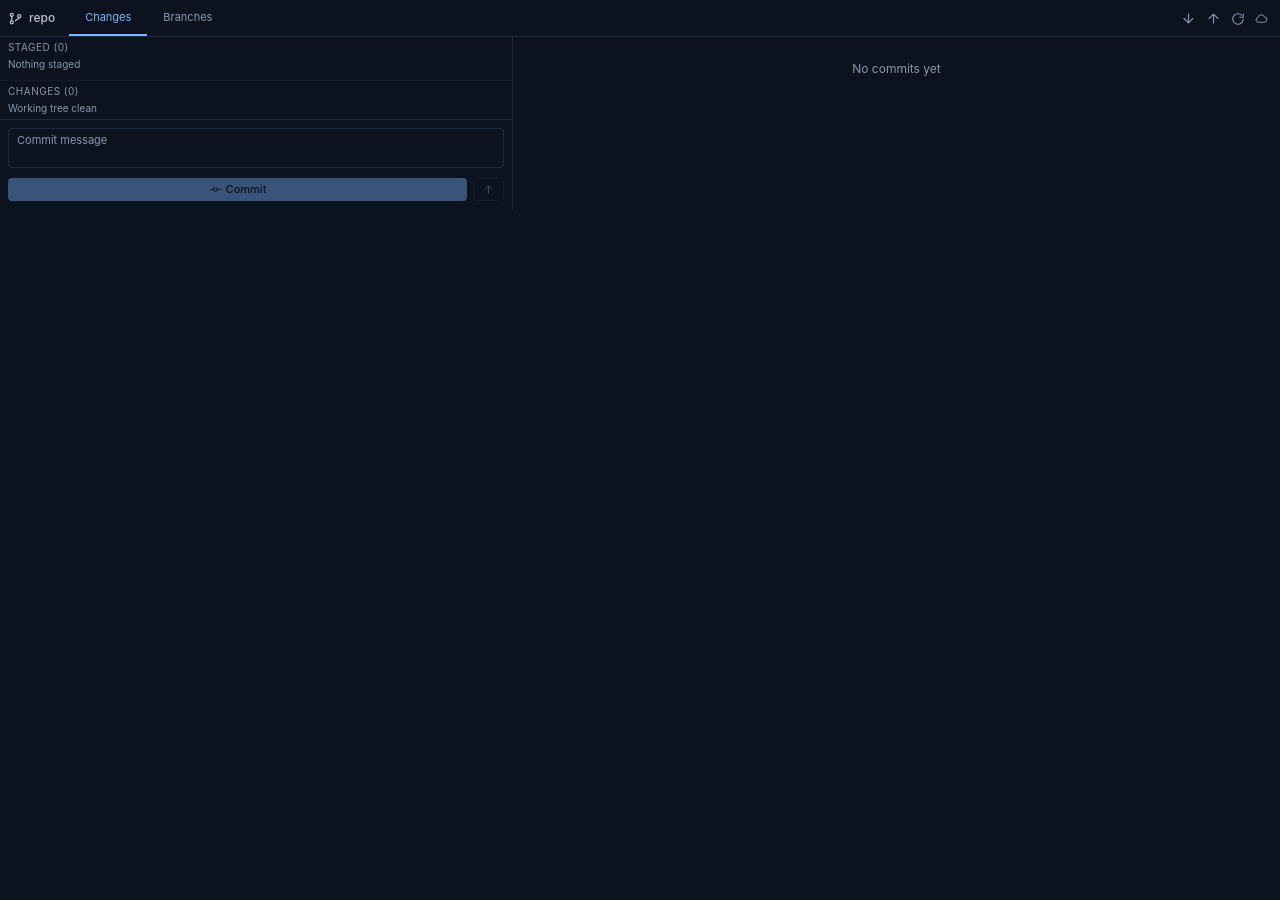
Scenario: GitPanel confirmations › does nothing when the confirm is cancelled
Expected: the button named "Pull" is shown, [1177,6,1200,30]
Click the button named "Push": (1214, 18) [1202,6,1225,30]
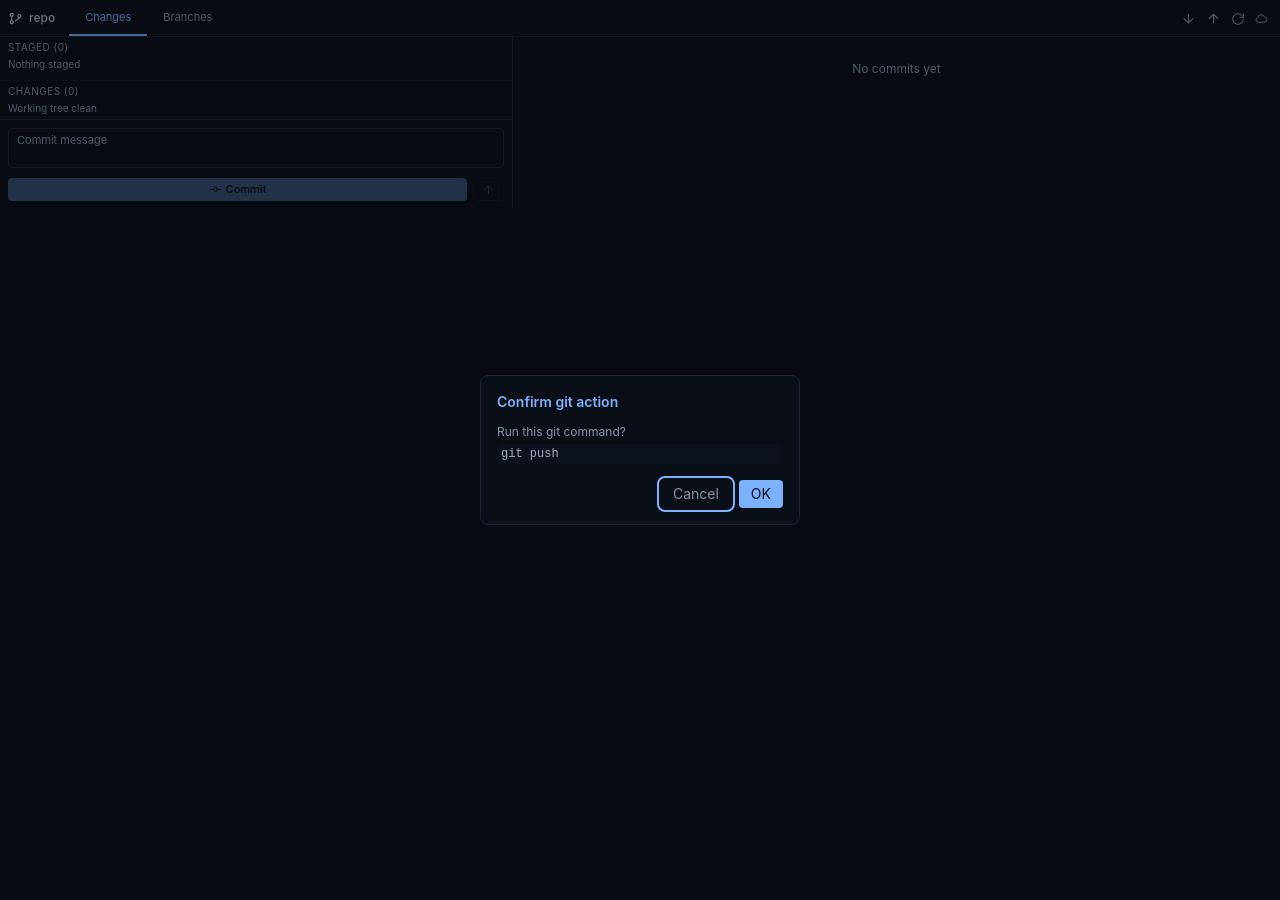
Now the heading "Confirm git action" is shown, box [497,393,618,410]
Click the button "Cancel": (696, 494) [661,480,731,508]
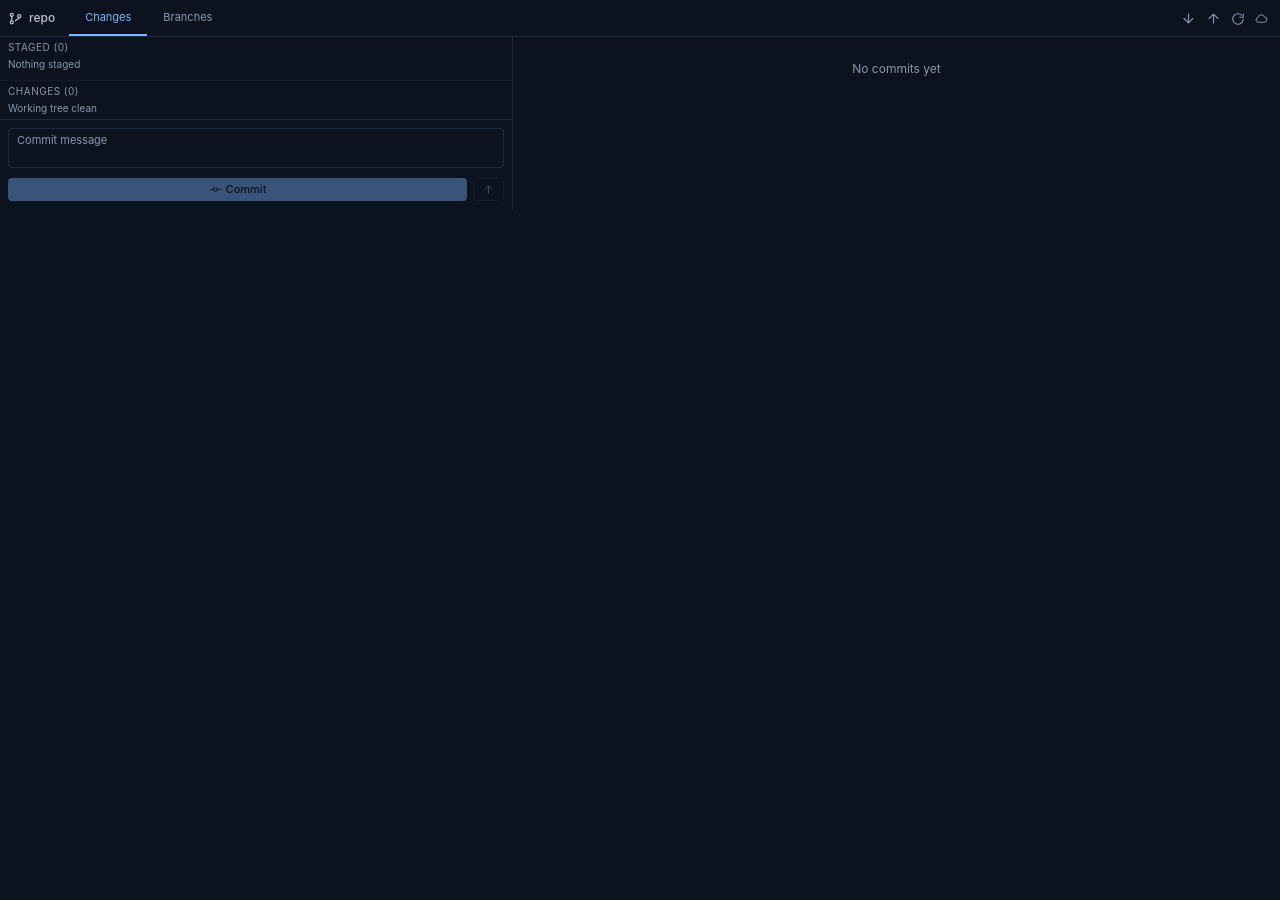
Now the heading "Confirm git action" is gone
